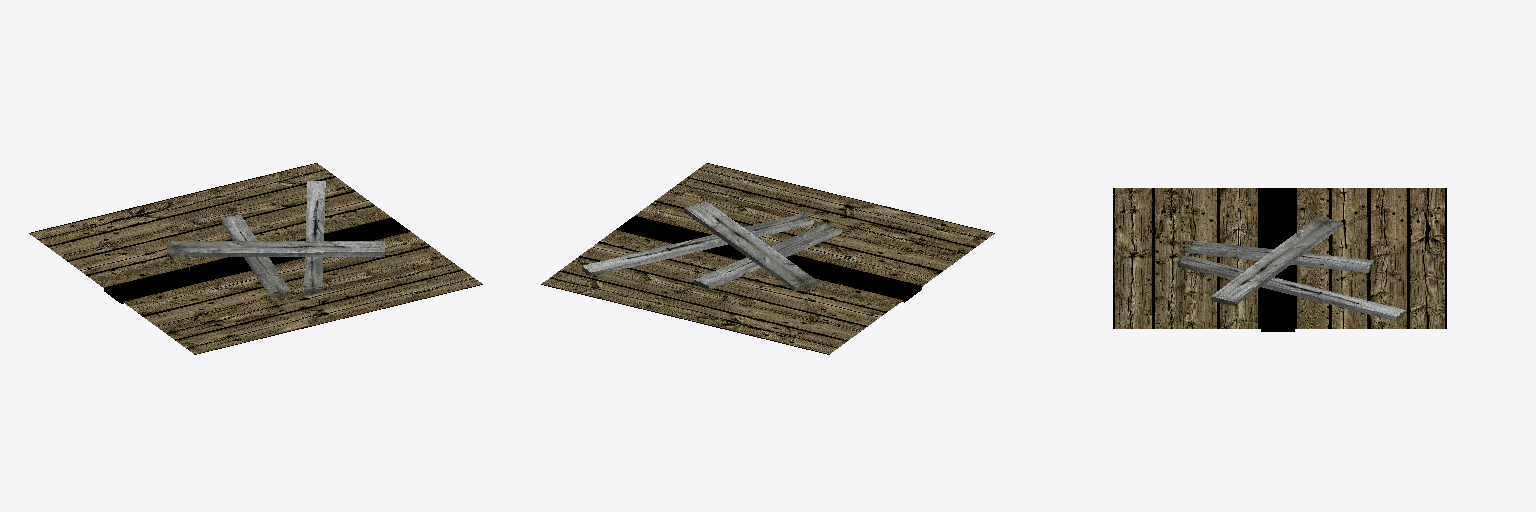
3 renders of one model, left to right at view 1: azimuth 30°, elevation 25°; view 2: azimuth 150°, elevation 25°; view 3: azimuth 270°, elevation 25°, orthographic.
Parts seen in each view (by area): view 1: Box001, Box002, Box004, Box003; view 2: Box001, Box002, Box004, Box003; view 3: Box001, Box002, Box004, Box003.
Boxes of the visible parts, box(x1,y1,x2,y2) form: Box001: box(29, 163, 482, 354); Box002: box(167, 241, 384, 256); Box004: box(304, 181, 325, 292); Box003: box(221, 215, 290, 297); Box001: box(541, 163, 994, 354); Box002: box(684, 202, 818, 290); Box004: box(582, 213, 813, 276); Box003: box(694, 223, 841, 289); Box001: box(1113, 188, 1446, 331); Box002: box(1211, 216, 1342, 305); Box004: box(1177, 255, 1405, 320); Box003: box(1186, 240, 1373, 272).
Size of the model in its own units: 39.37 by 1.53 by 39.37.
4 materials, 4 textured.